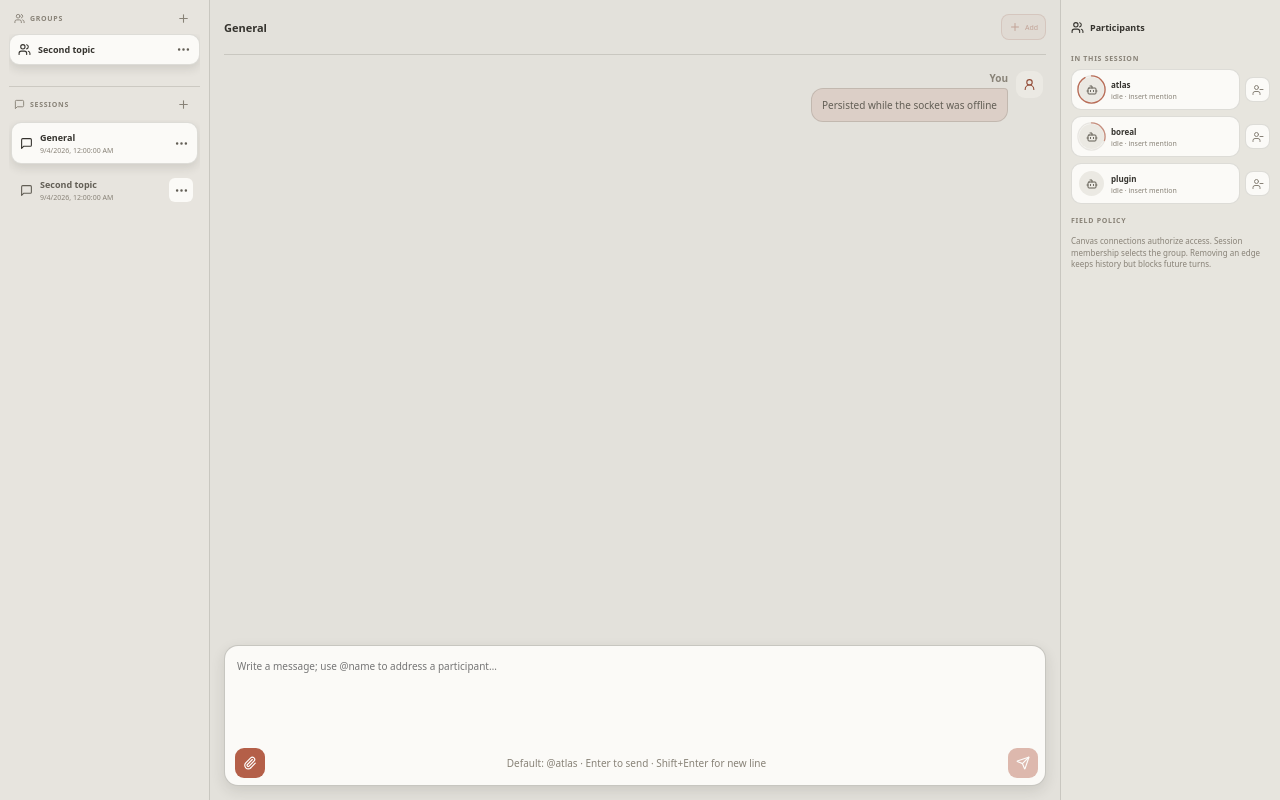
Test case: ConversationWorkspace snapshots › scopes quiet participant rings to the selected session and refreshes on context events
Expected: the element titled "Context 92% · compacted 1 times" is shown, [1079,77,1104,102]
Expected: the number of icons with class "context-pressure-ring" is 2, [1076,74,1107,105]; [1076,121,1107,152]
Click the button titled "Second topic": coordinates (104, 190) [11,169,198,211]
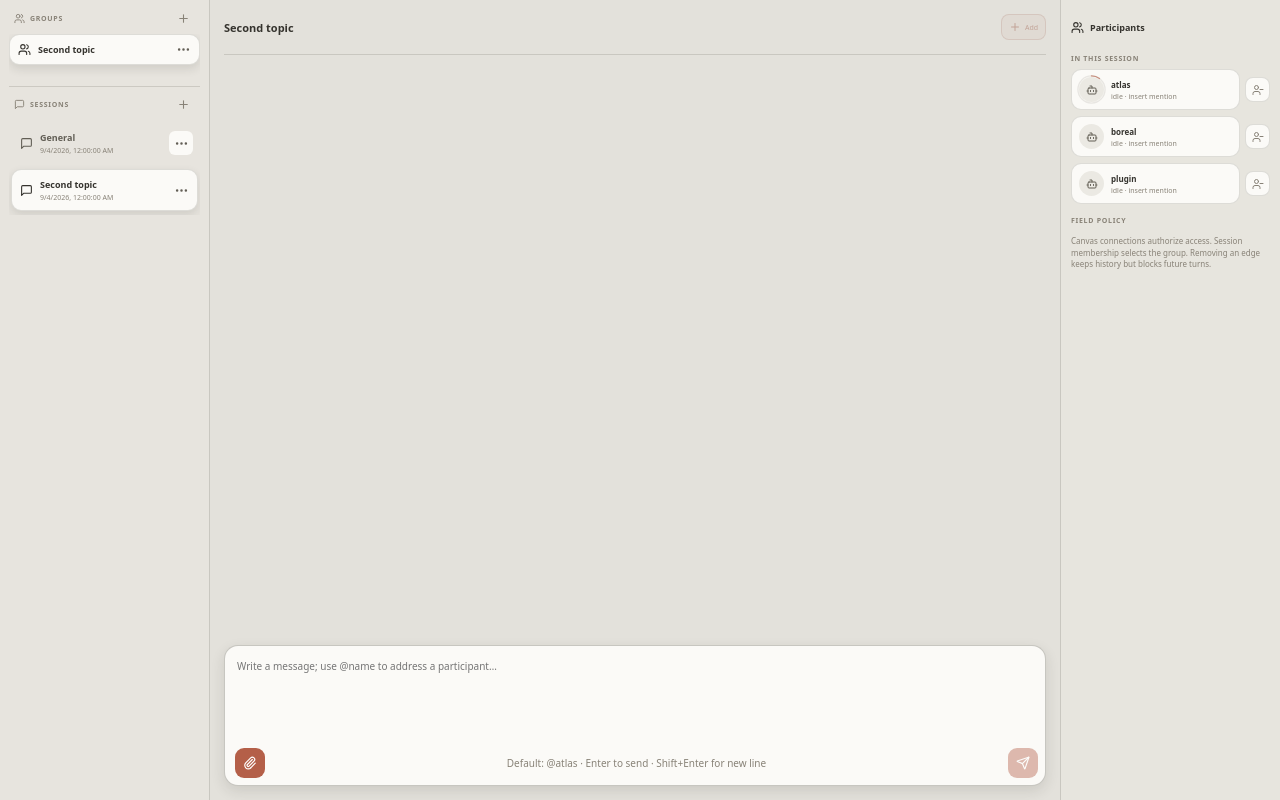
Now the element titled "Context 10% · compacted 0 times" is shown, box [1079,77,1104,102]
Click the button titled "General": coordinates (104, 143) [11,122,198,164]
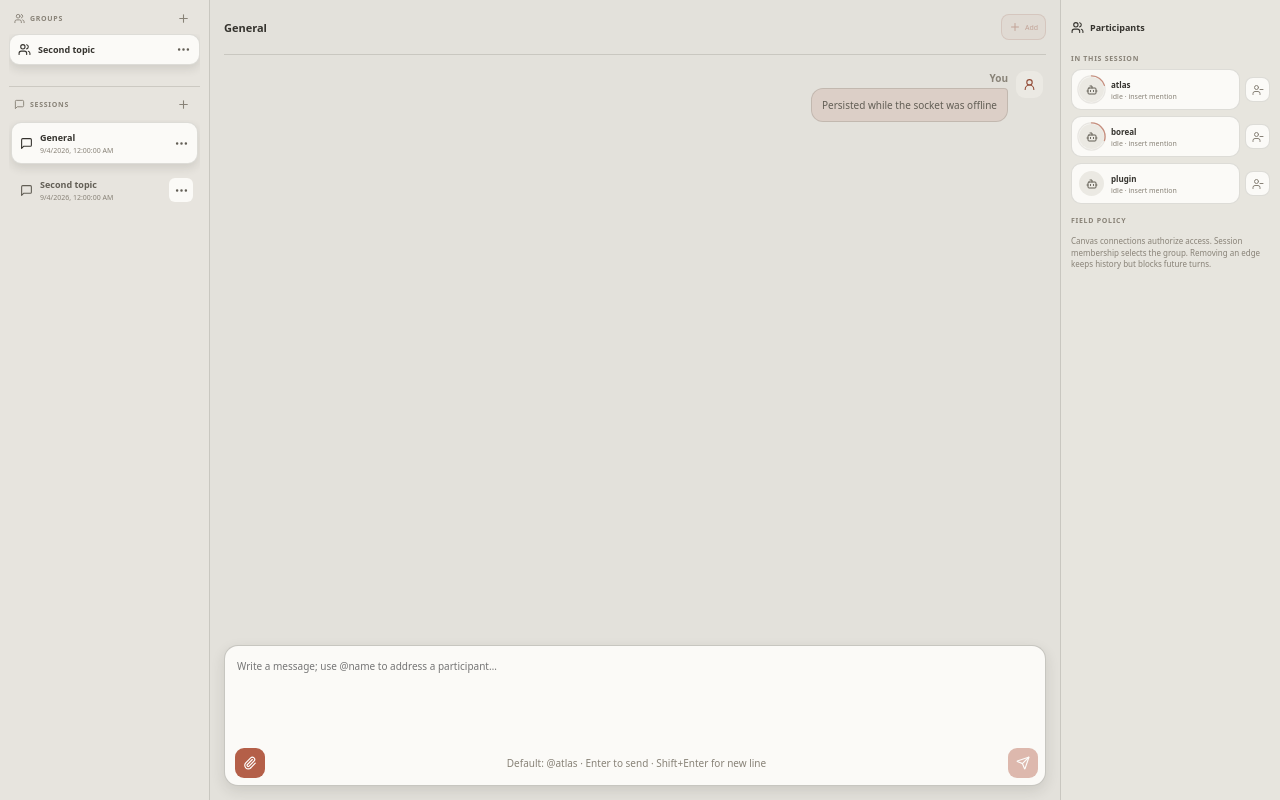
Now the element titled "Context 20% · compacted 2 times" is shown, box [1079,77,1104,102]
Now the element titled "Context 30% · compacted 0 times" is shown, box [1079,124,1104,149]
